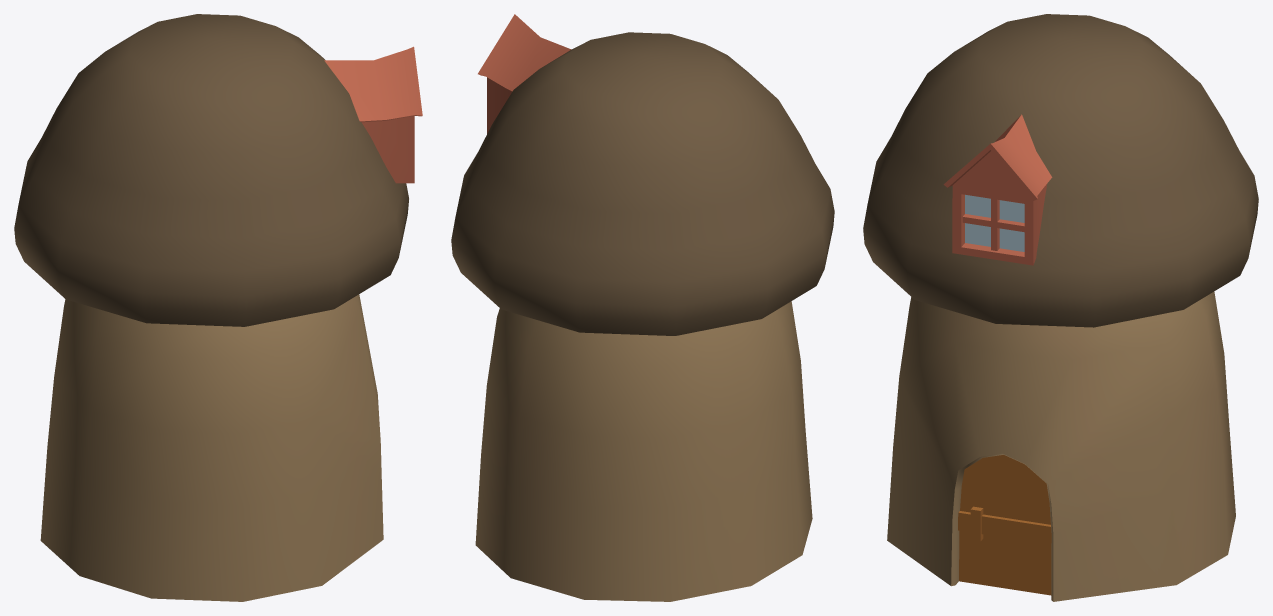
Rendered from moguwu_06.FBX.
The picture shows the model from 3 angles, left to right: view 1: azimuth 30°, elevation 25°; view 2: azimuth 150°, elevation 25°; view 3: azimuth 270°, elevation 25°; orthographic projection. The views are drawn at different scales.
Visible parts, largest first — view 1: moguwu_06; view 2: moguwu_06; view 3: moguwu_06.
Boxes of the visible parts, x1=… form: moguwu_06: x1=14, y1=14, x2=422, y2=601; moguwu_06: x1=451, y1=14, x2=834, y2=601; moguwu_06: x1=863, y1=14, x2=1258, y2=601.
Bounding box in the file's own units: 97.99 × 130 × 94.93.
